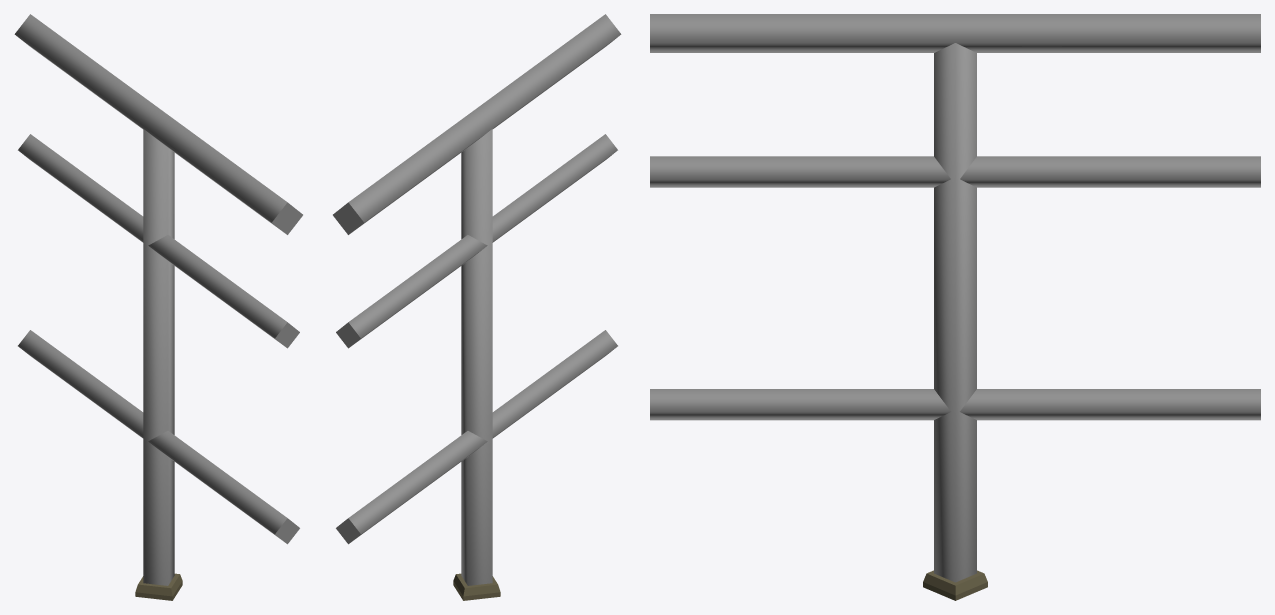
The model's file is SW_ENV_Railing_Mid.fbx.
3 renders of one model, left to right at view 1: azimuth 30°, elevation 25°; view 2: azimuth 150°, elevation 25°; view 3: azimuth 270°, elevation 25°, orthographic. The views are drawn at different scales.
Visible parts, largest first — view 1: SW_ENV_Railing_Mid; view 2: SW_ENV_Railing_Mid; view 3: SW_ENV_Railing_Mid.
Boxes of the visible parts, <box> form: SW_ENV_Railing_Mid: <box>14,14,302,600</box>; SW_ENV_Railing_Mid: <box>333,14,621,600</box>; SW_ENV_Railing_Mid: <box>650,14,1260,600</box>.
Size of the model in its own units: 0.1061 by 1.04 by 1.
